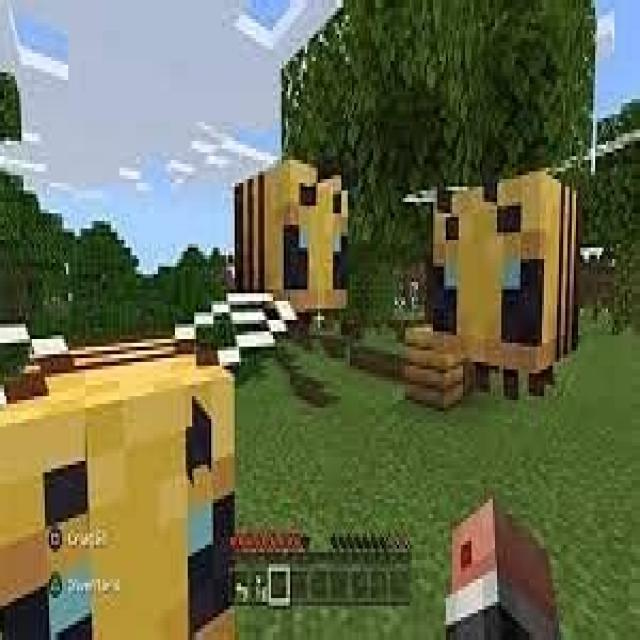Bee: (0, 289, 294, 640), (392, 152, 614, 412), (221, 114, 376, 324)
